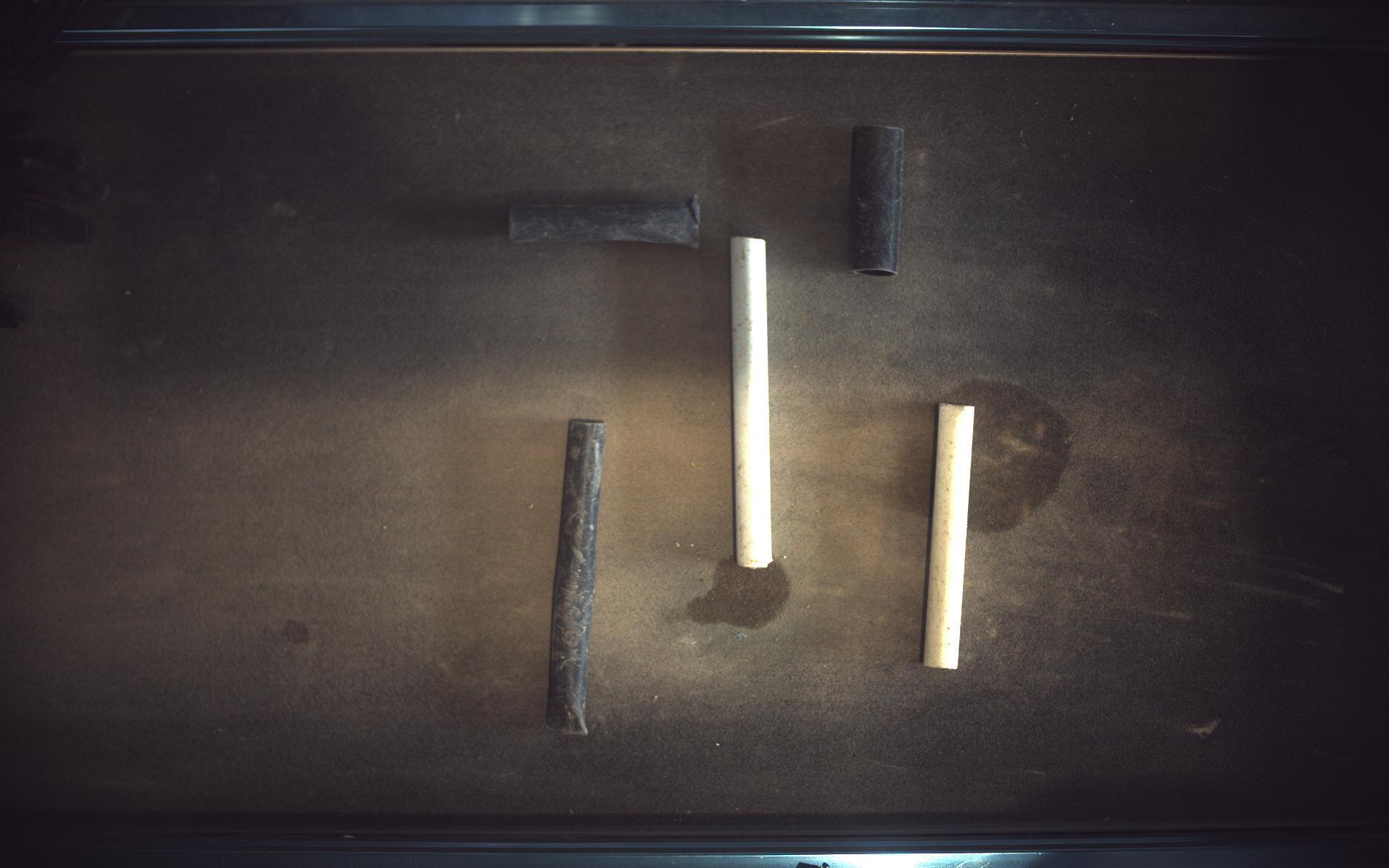pipes: (546, 420, 606, 736), (731, 236, 774, 569), (925, 404, 977, 671), (510, 196, 701, 247), (852, 125, 906, 275)
